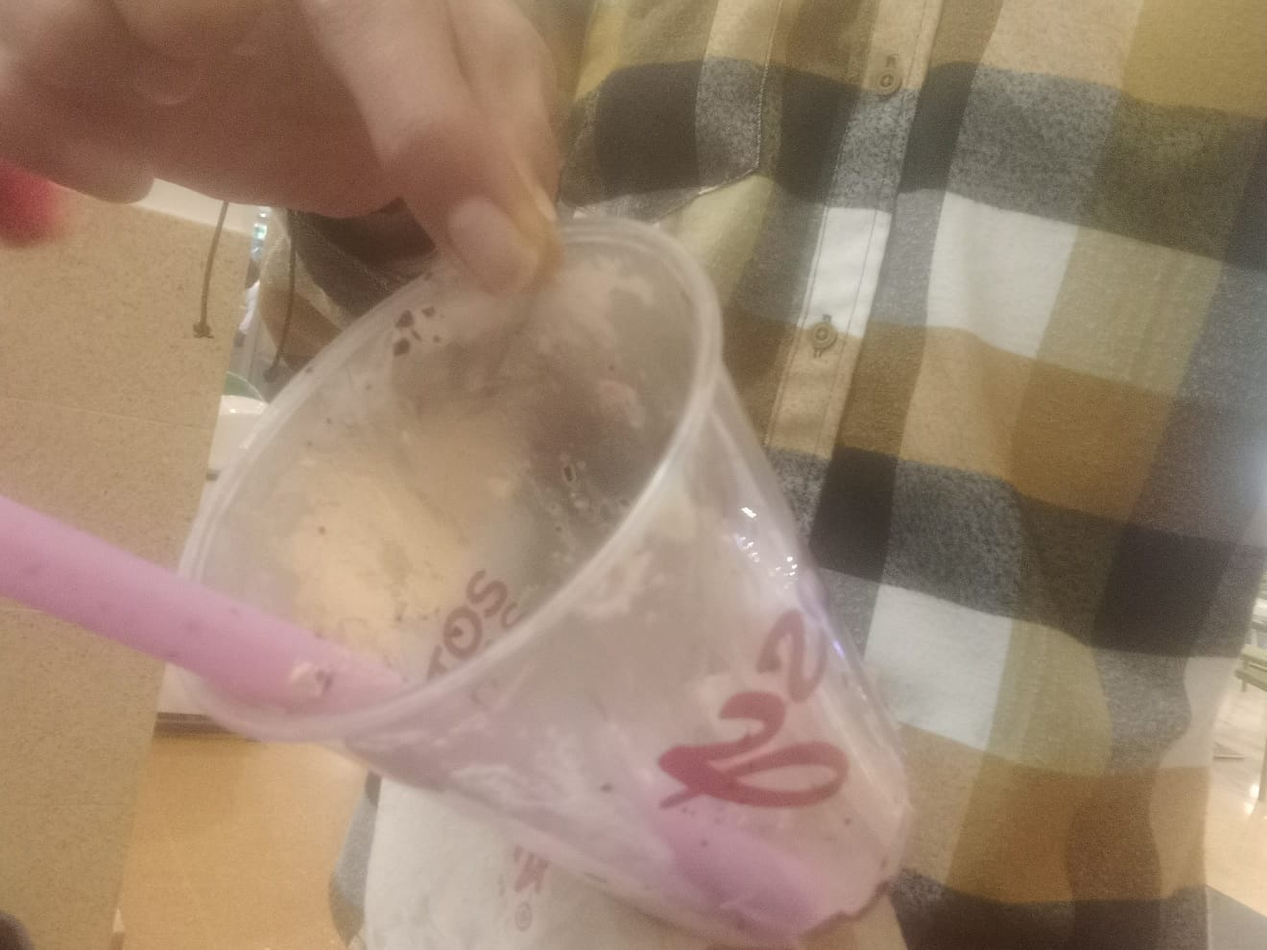Plastico: (170, 215, 917, 950)
